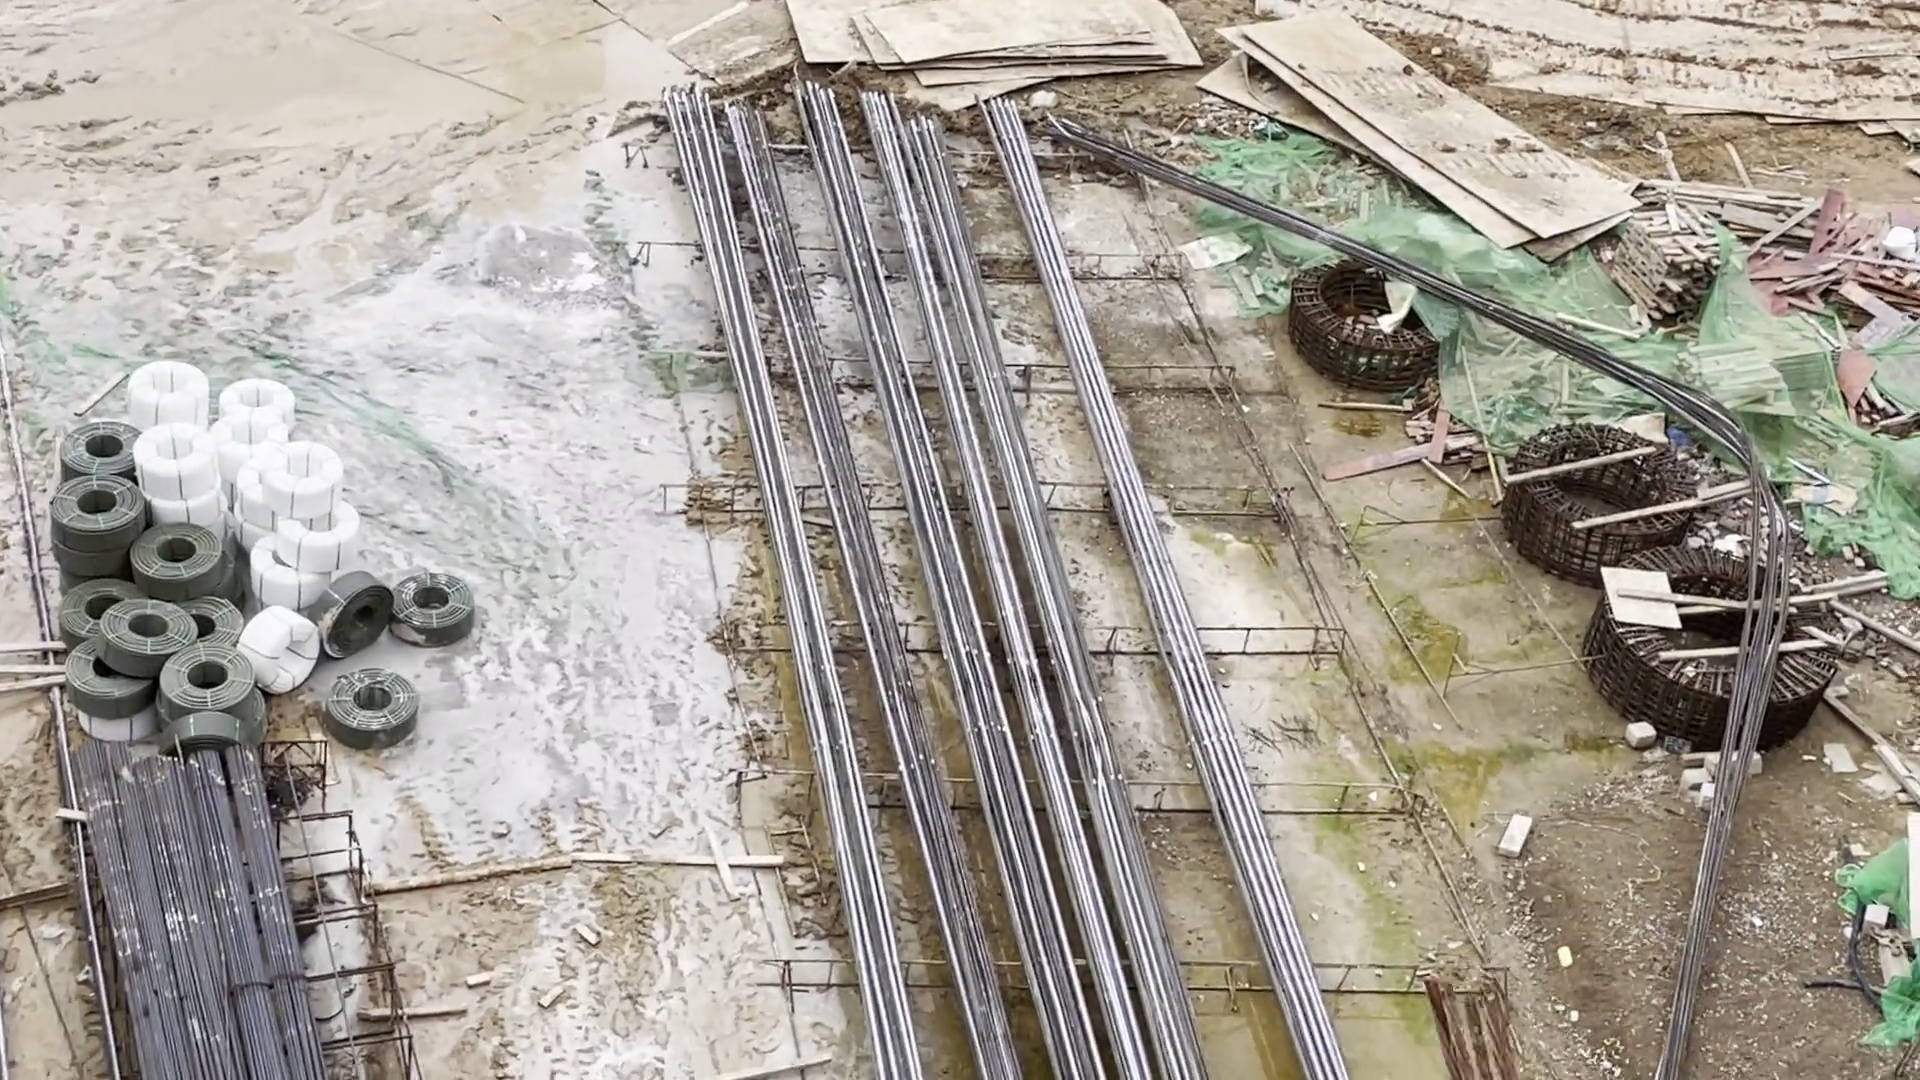board: (1779, 220, 1920, 305)
rebar: (638, 84, 1211, 1077), (33, 736, 382, 1080)
